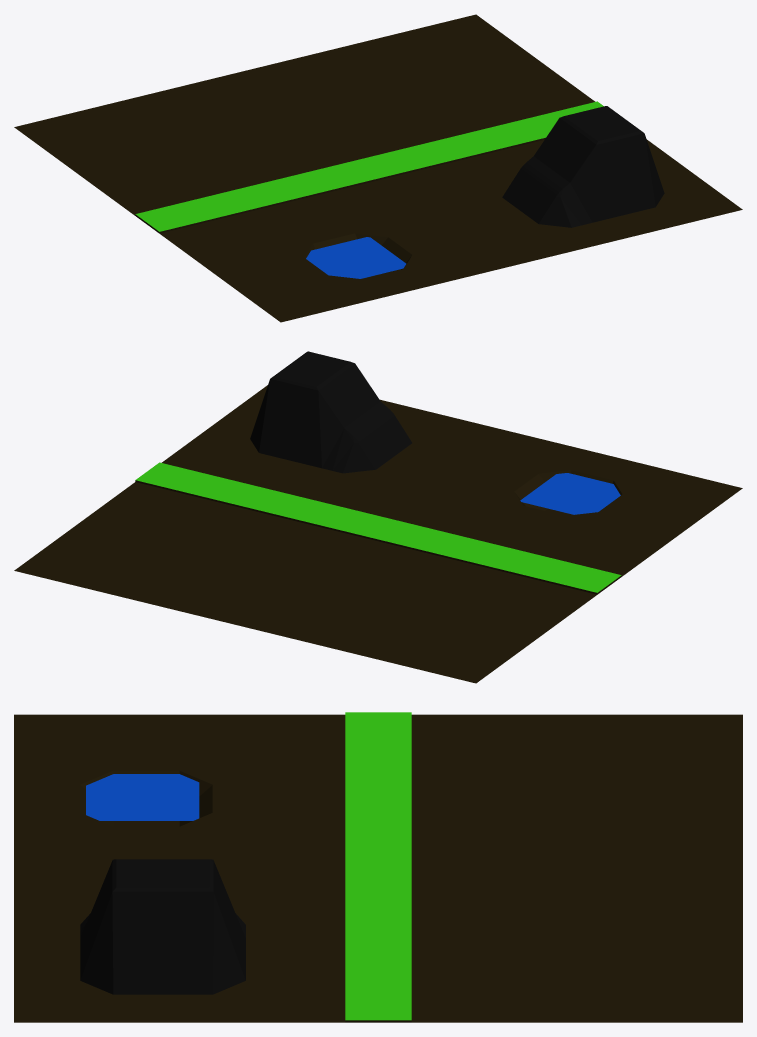
The model's file is ステージ(仮).obj.
3 renders of one model, top to bottom at view 1: azimuth 30°, elevation 25°; view 2: azimuth 150°, elevation 25°; view 3: azimuth 270°, elevation 25°, orthographic. The views are drawn at different scales.
Visible parts, largest first — view 1: Plane, Plane.001; view 2: Plane, Plane.001; view 3: Plane, Plane.001.
Boxes of the visible parts, <box> form: Plane: <box>14,14,742,322</box>; Plane.001: <box>306,237,406,278</box>; Plane: <box>14,351,742,683</box>; Plane.001: <box>520,473,620,514</box>; Plane: <box>14,712,742,1022</box>; Plane.001: <box>86,774,199,820</box>.
Bounding box in the file's own units: 398 × 73.01 × 398.
